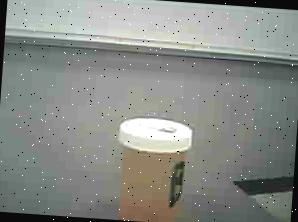Bottle B: (100, 109, 208, 222)
